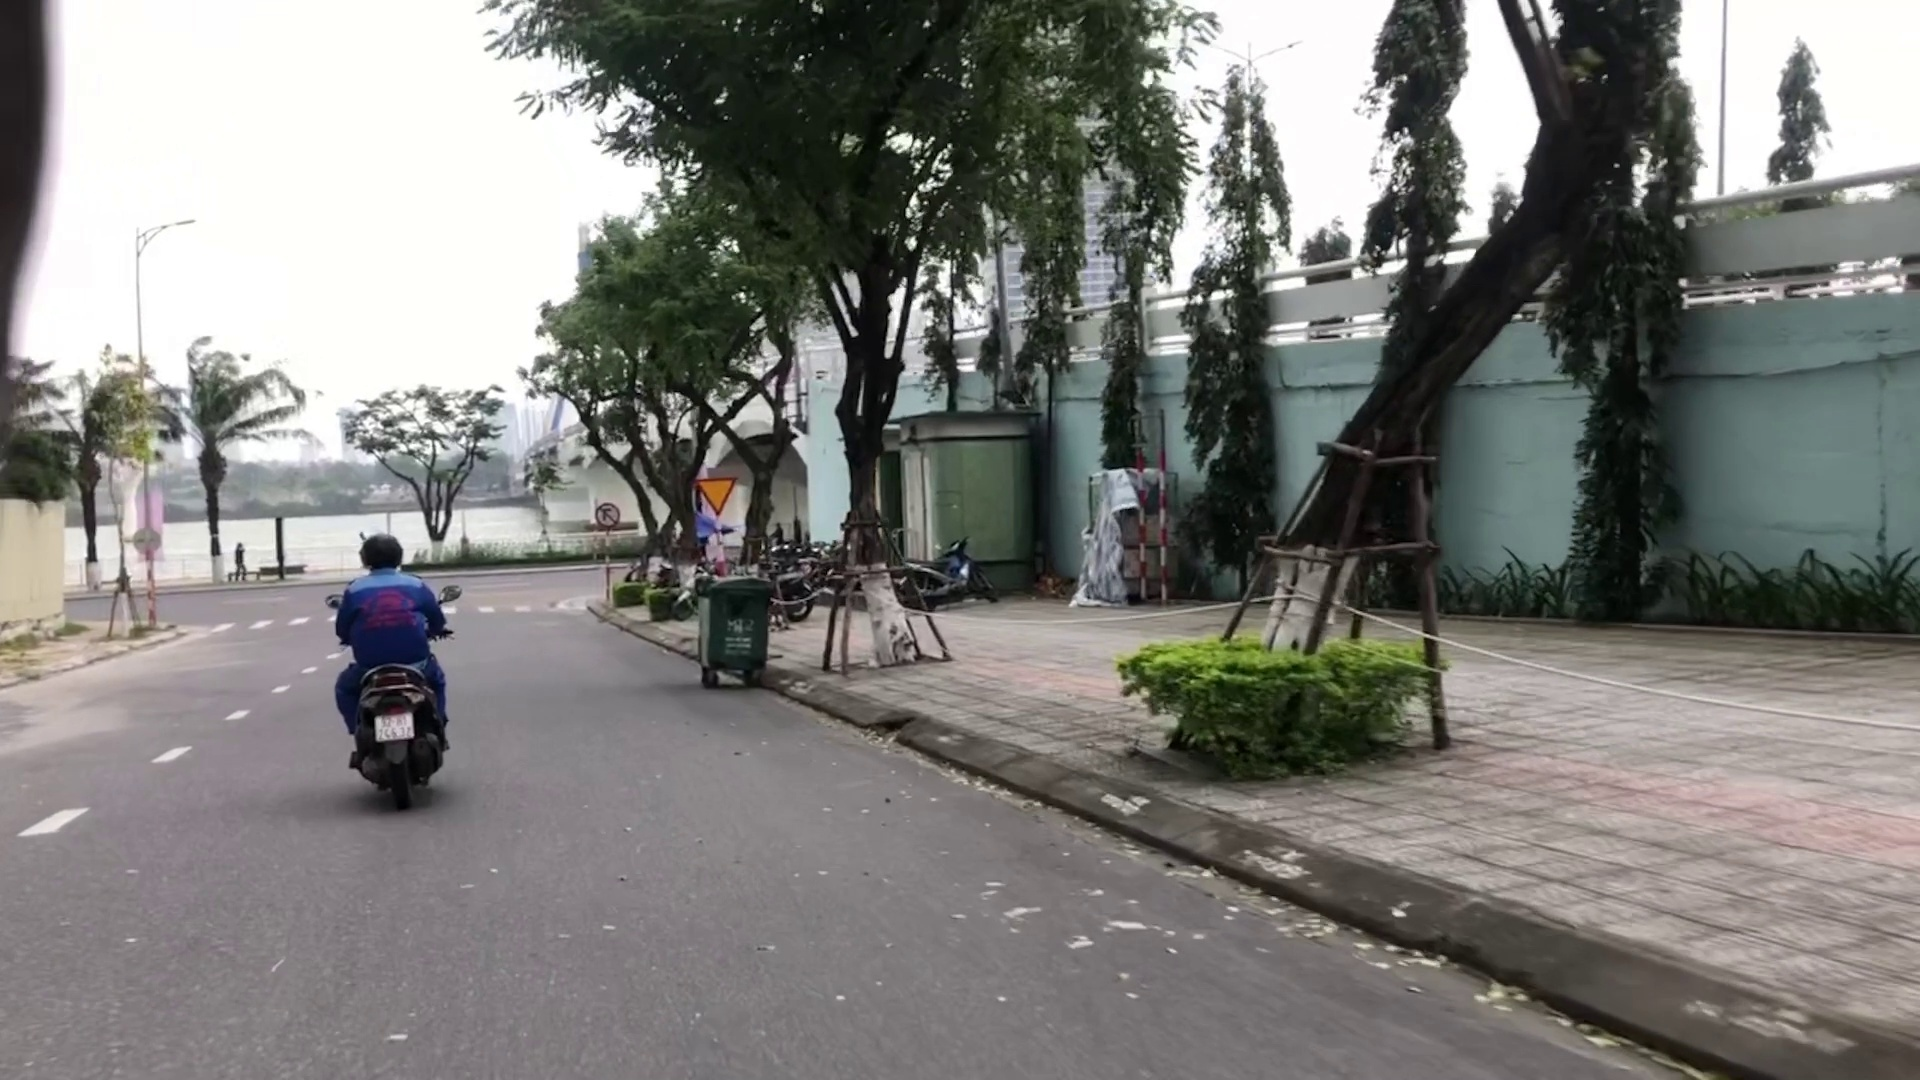Bien khac: (695, 473, 737, 513), (595, 501, 624, 527)
